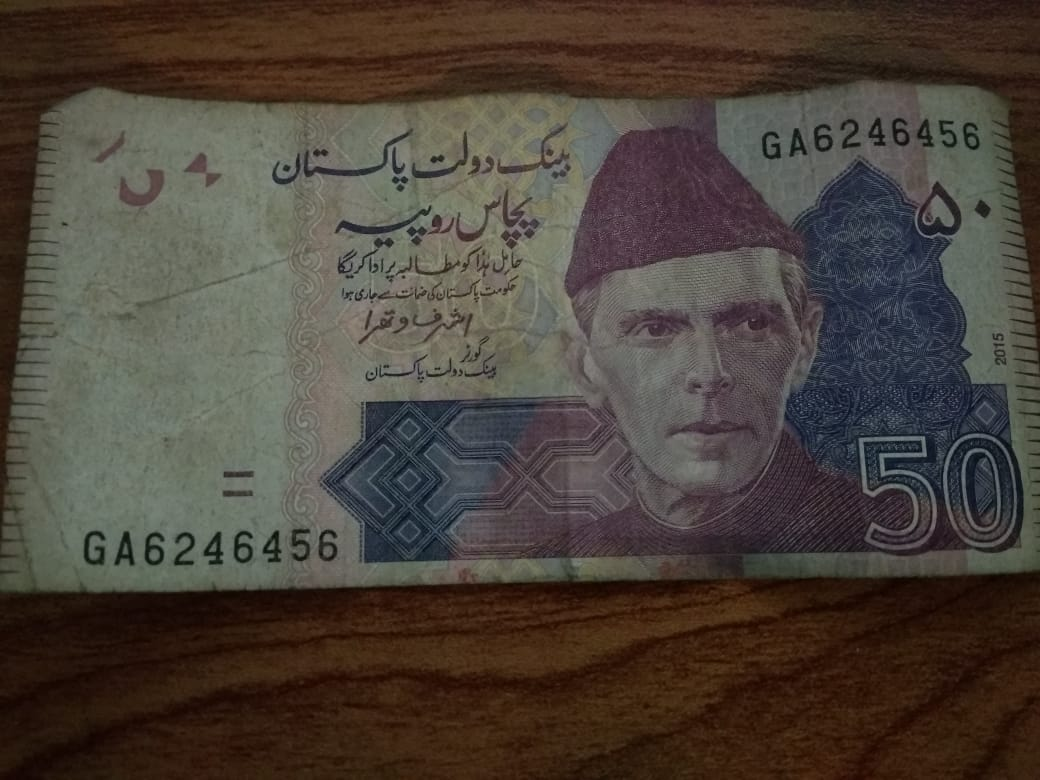50 rupee: (29, 46, 1026, 609)
